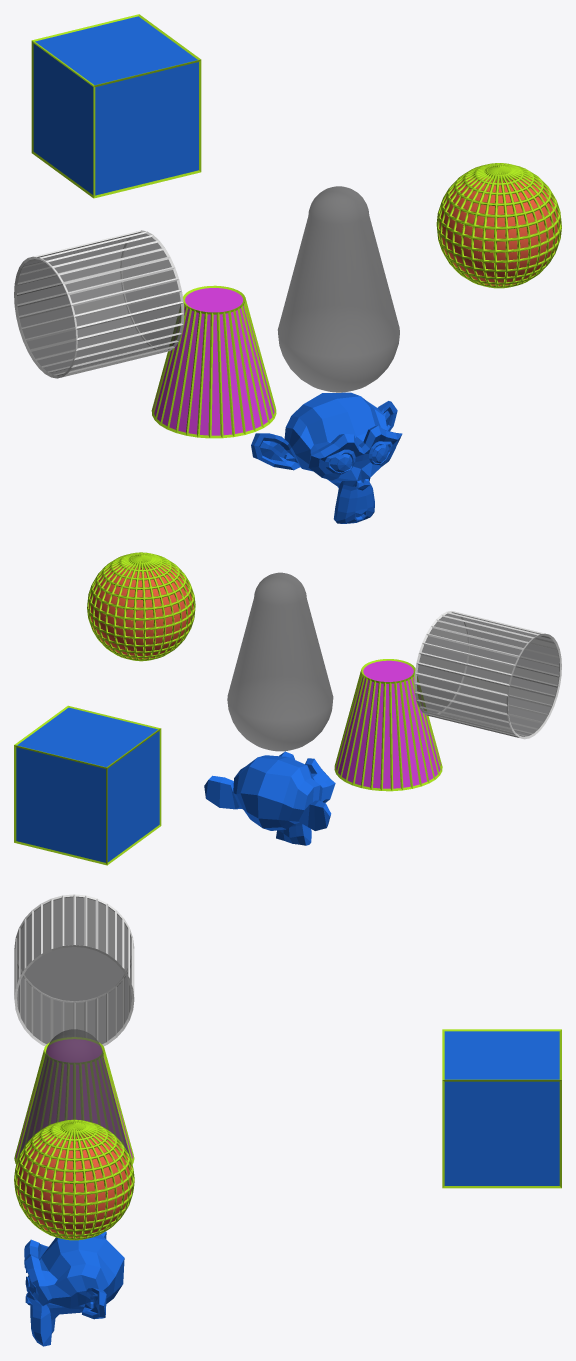
The model's file is ternion.glb.
3 renders of one model, top to bottom at view 1: azimuth 30°, elevation 25°; view 2: azimuth 150°, elevation 25°; view 3: azimuth 270°, elevation 25°, orthographic. The views are drawn at different scales.
Parts seen in each view (by area): view 1: (dynamic) Cube, (dynamic) Taperedcapsule, (kinematic) Cylinder, (dynamic), (dynamic) Taperedcylinder, (shape_sphere) Ball, (shape_cylinder), (shape_taperedcylinder) Taperedcylinder, (static) Ball, (shape_box) Cube; view 2: (dynamic) Cube, (dynamic) Taperedcapsule, (kinematic) Cylinder, (dynamic), (dynamic) Taperedcylinder, (shape_sphere) Ball, (shape_cylinder), (shape_taperedcylinder) Taperedcylinder, (static) Ball, (shape_box) Cube; view 3: (dynamic) Cube, (kinematic) Cylinder, (shape_sphere) Ball, (dynamic), (dynamic) Taperedcapsule, (static) Ball, (shape_cylinder), (dynamic) Taperedcylinder, (shape_taperedcylinder) Taperedcylinder, (shape_box) Cube.
Part boxes in pixels (x1=…): (dynamic) Cube: x1=33, y1=16, x2=198, y2=195; (dynamic) Taperedcapsule: x1=277, y1=186, x2=399, y2=392; (kinematic) Cylinder: x1=16, y1=232, x2=181, y2=375; (dynamic): x1=251, y1=392, x2=402, y2=523; (dynamic) Taperedcylinder: x1=153, y1=288, x2=274, y2=435; (shape_sphere) Ball: x1=436, y1=163, x2=561, y2=288; (shape_cylinder): x1=14, y1=230, x2=184, y2=378; (shape_taperedcylinder) Taperedcylinder: x1=151, y1=285, x2=276, y2=438; (static) Ball: x1=439, y1=176, x2=559, y2=285; (shape_box) Cube: x1=31, y1=14, x2=201, y2=198; (dynamic) Cube: x1=16, y1=707, x2=159, y2=862; (dynamic) Taperedcapsule: x1=227, y1=572, x2=333, y2=751; (kinematic) Cylinder: x1=417, y1=612, x2=559, y2=736; (dynamic): x1=204, y1=751, x2=335, y2=845; (dynamic) Taperedcylinder: x1=336, y1=660, x2=440, y2=788; (shape_sphere) Ball: x1=87, y1=552, x2=195, y2=661; (shape_cylinder): x1=414, y1=611, x2=561, y2=739; (shape_taperedcylinder) Taperedcylinder: x1=334, y1=659, x2=442, y2=791; (static) Ball: x1=88, y1=564, x2=193, y2=658; (shape_box) Cube: x1=14, y1=705, x2=161, y2=865; (dynamic) Cube: x1=444, y1=1031, x2=559, y2=1185; (kinematic) Cylinder: x1=17, y1=896, x2=131, y2=1044; (shape_sphere) Ball: x1=14, y1=1119, x2=134, y2=1240; (dynamic): x1=24, y1=1231, x2=124, y2=1346; (dynamic) Taperedcapsule: x1=17, y1=1029, x2=130, y2=1159; (static) Ball: x1=17, y1=1132, x2=131, y2=1237; (shape_cylinder): x1=14, y1=894, x2=134, y2=1046; (dynamic) Taperedcylinder: x1=16, y1=1039, x2=132, y2=1158; (shape_taperedcylinder) Taperedcylinder: x1=14, y1=1037, x2=134, y2=1164; (shape_box) Cube: x1=442, y1=1029, x2=561, y2=1188.
Size of the model in its own units: 9.58 by 5.78 by 9.3.
